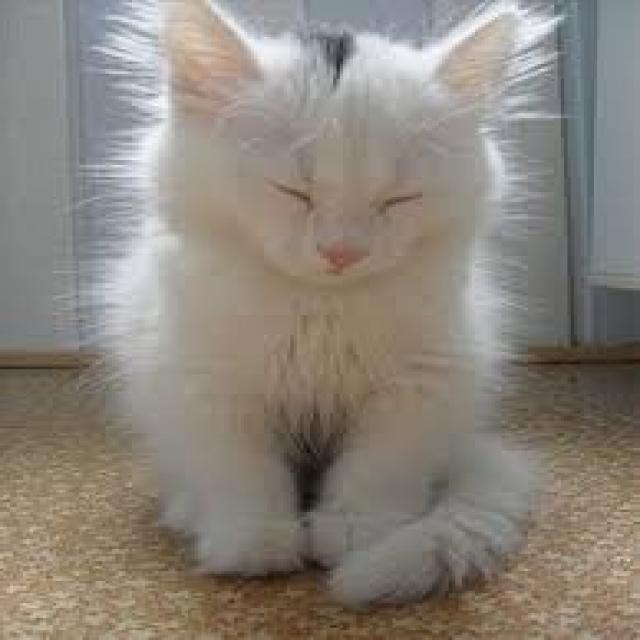Cat: (72, 1, 565, 615)
